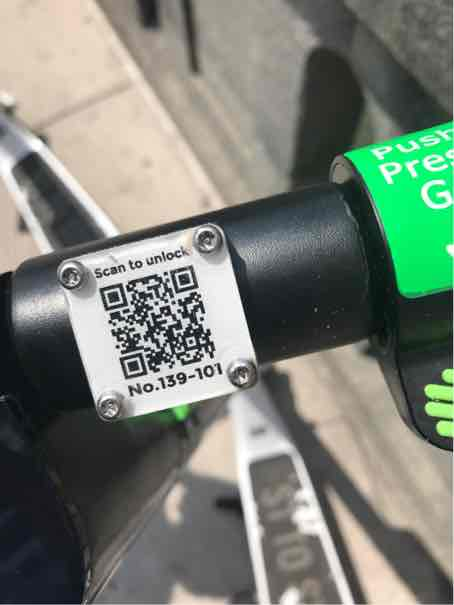scooter: (5, 20, 436, 605)
